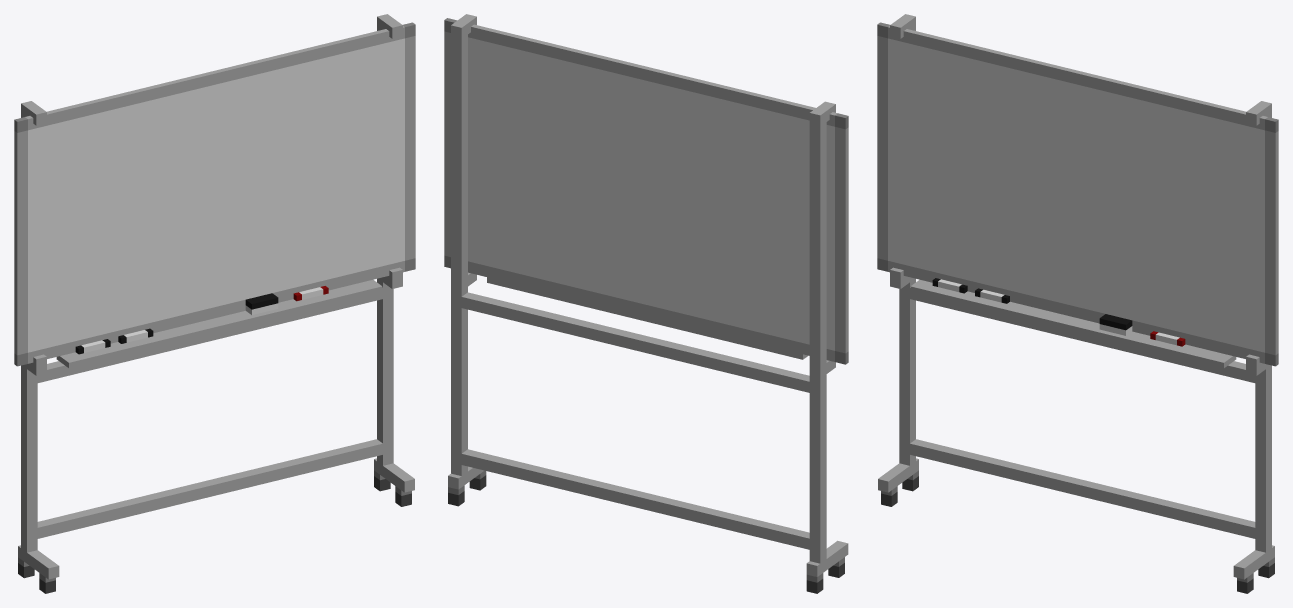
Rendered from whiteboard.obj.
The picture shows the model from 3 angles, left to right: view 1: azimuth 30°, elevation 25°; view 2: azimuth 150°, elevation 25°; view 3: azimuth 330°, elevation 25°; orthographic projection.
Size of the model in its own units: 75 by 85 by 10.
Materials: 1 (1 with a texture image).
